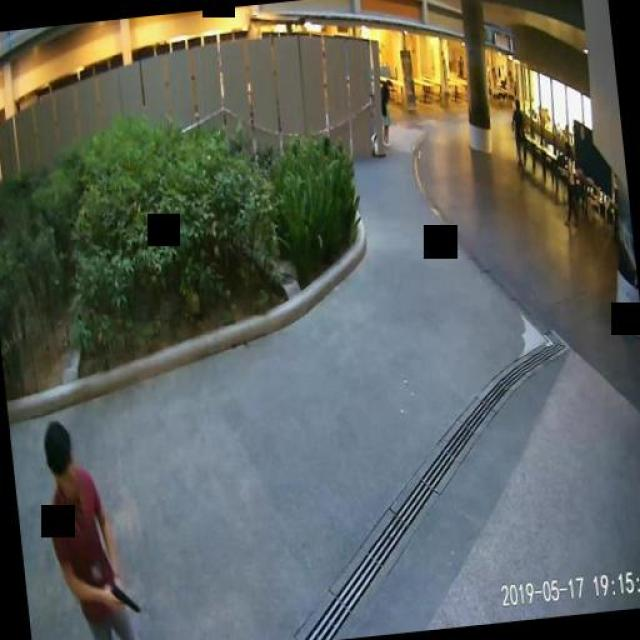gun: (109, 580, 138, 615)
